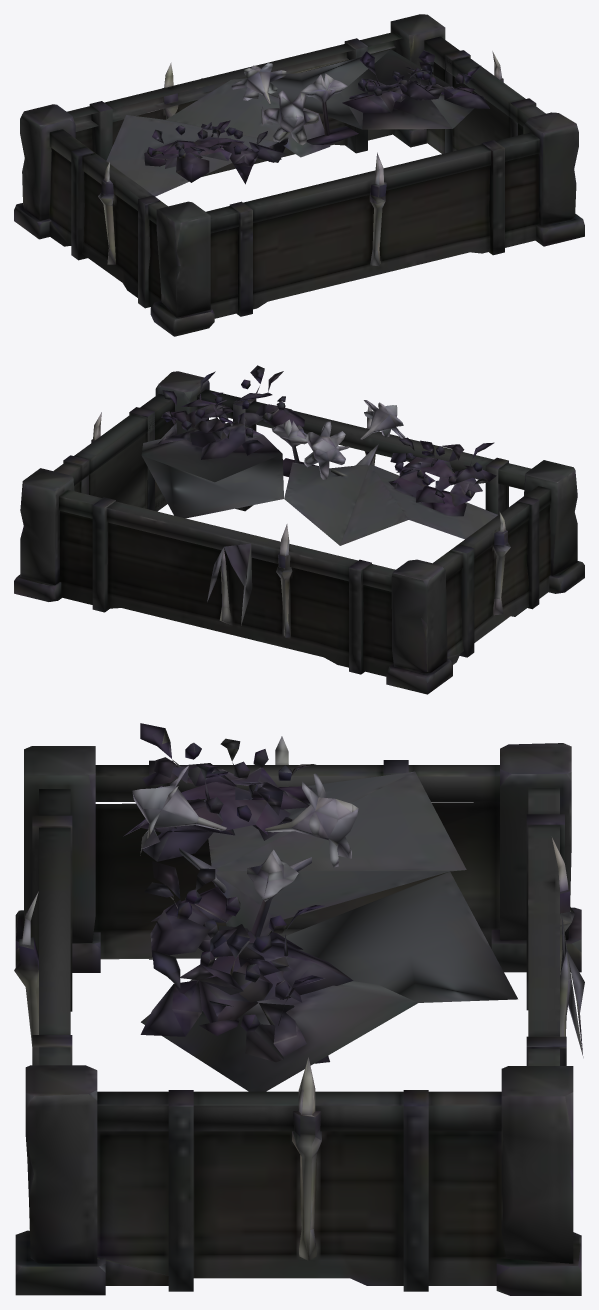
File: prop_node_herb_patch.glb
3 views of the same model, one above another, from view 1: azimuth 30°, elevation 25°; view 2: azimuth 150°, elevation 25°; view 3: azimuth 270°, elevation 25° (orthographic). The views are drawn at different scales.
Parts seen in each view (by area): view 1: tripo_node_c6ebfa96-f9d8-4034-b1b1-8f26dce797d2; view 2: tripo_node_c6ebfa96-f9d8-4034-b1b1-8f26dce797d2; view 3: tripo_node_c6ebfa96-f9d8-4034-b1b1-8f26dce797d2.
Boxes of the visible parts, box(x1,y1,x2,y2) form: tripo_node_c6ebfa96-f9d8-4034-b1b1-8f26dce797d2: box(14, 14, 584, 336); tripo_node_c6ebfa96-f9d8-4034-b1b1-8f26dce797d2: box(14, 365, 584, 694); tripo_node_c6ebfa96-f9d8-4034-b1b1-8f26dce797d2: box(14, 723, 584, 1295).
Size of the model in its own units: 0.998 by 0.4004 by 0.6699.
Materials: 1 (1 with a texture image).
